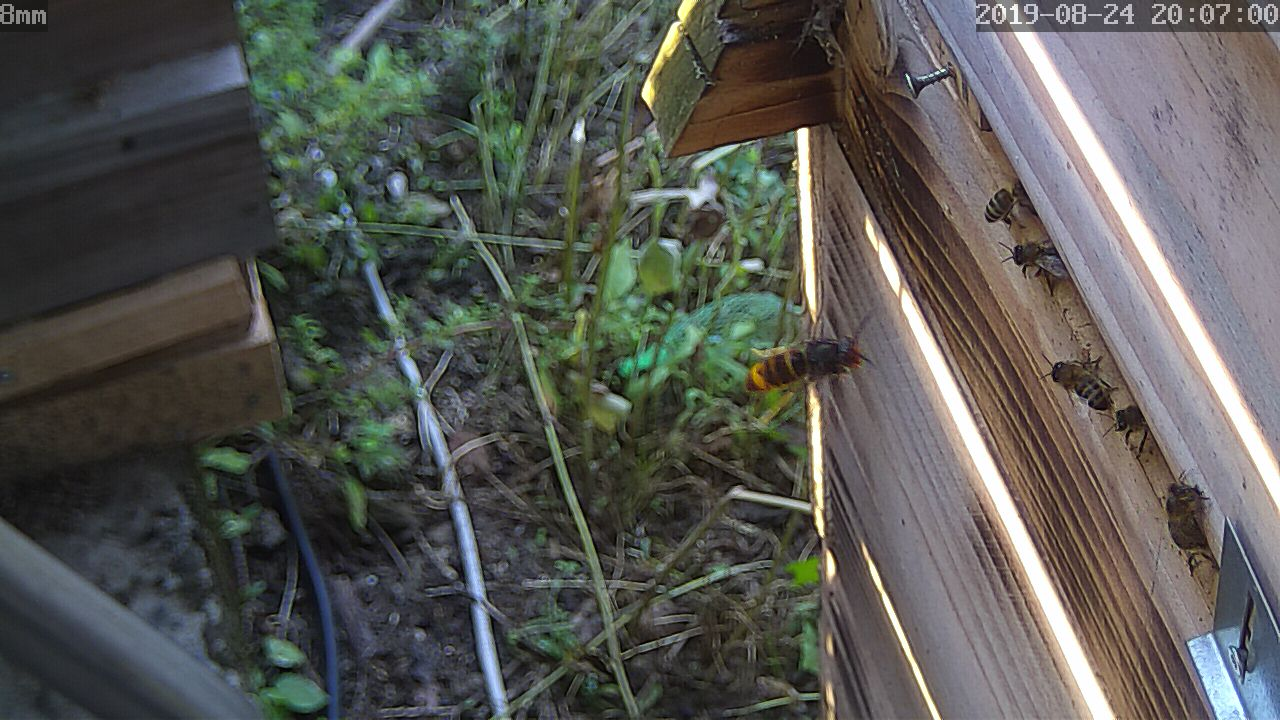bee: (1152, 472, 1215, 561), (1047, 344, 1113, 412), (1001, 235, 1069, 285), (1110, 396, 1156, 451), (987, 176, 1025, 235)
hornet: (742, 330, 869, 410)
